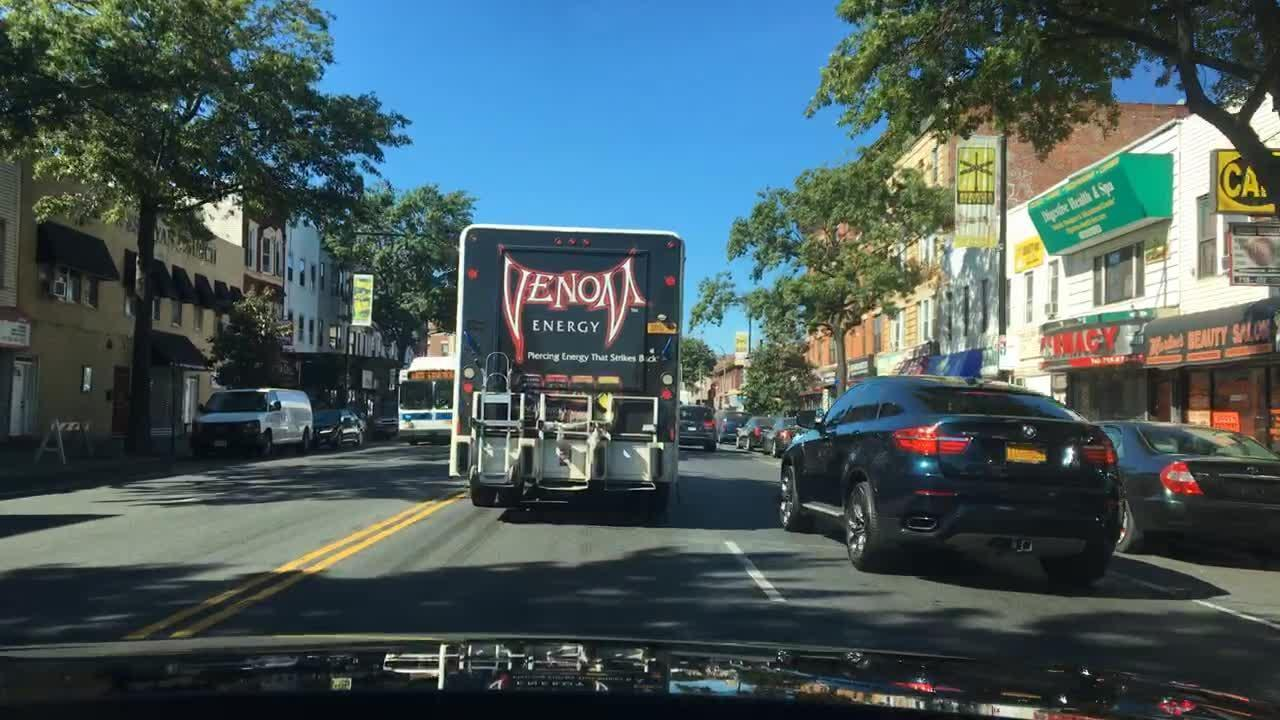bmw: (1018, 424, 1040, 441)
